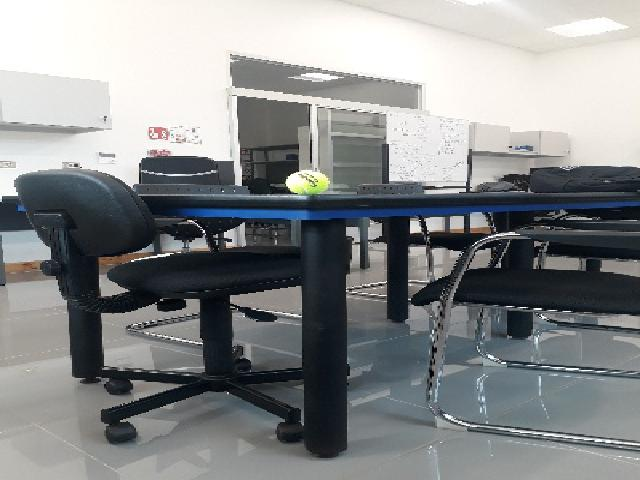Ball: (283, 170, 328, 194)
